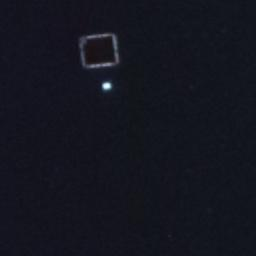square_solid: (76, 29, 124, 73)
